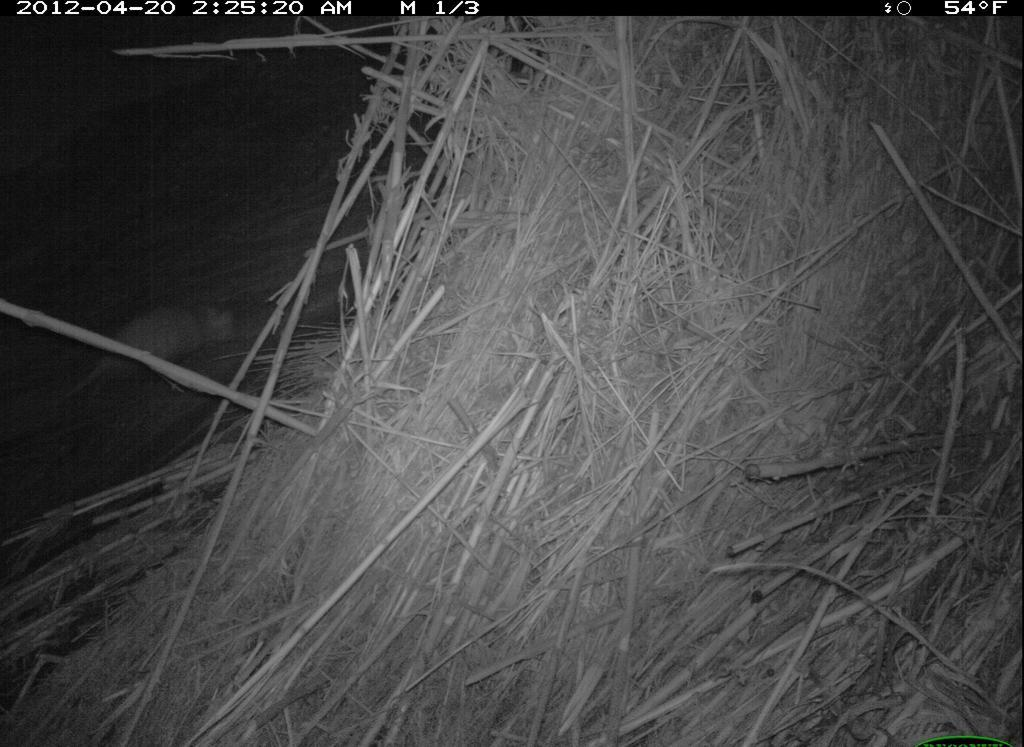opossum: (57, 294, 246, 410)
